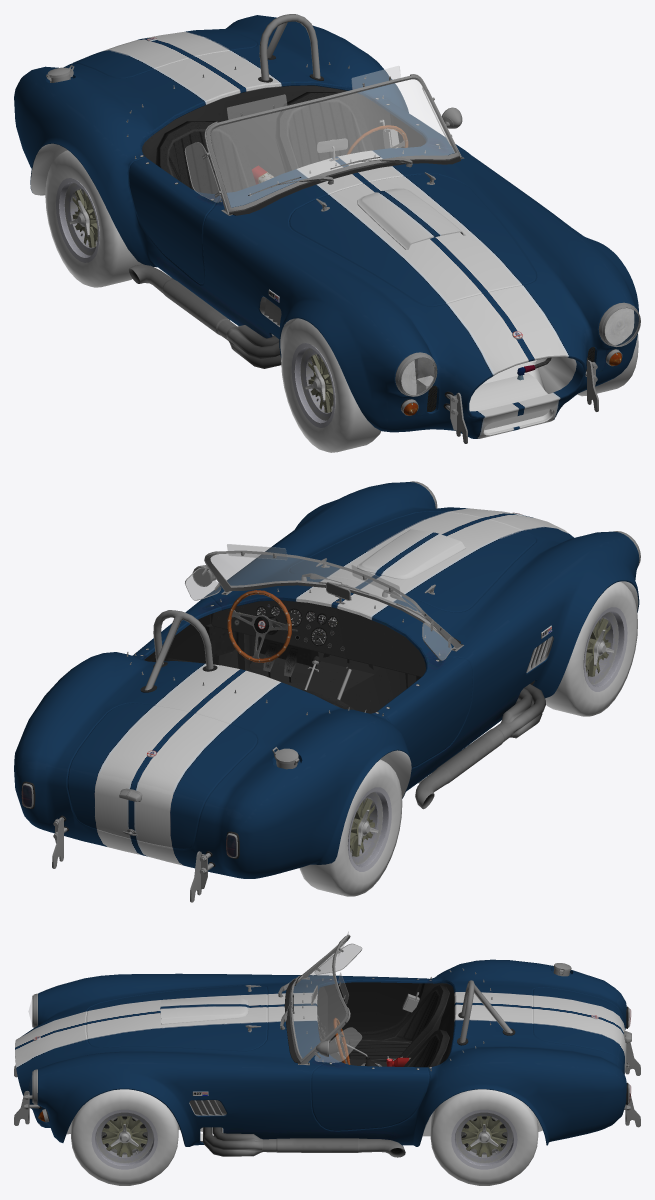
3 renders of one model, top to bottom at view 1: azimuth 30°, elevation 25°; view 2: azimuth 150°, elevation 25°; view 3: azimuth 270°, elevation 25°, orthographic. The views are drawn at different scales.
Visible parts, largest first — view 1: LOD_A_BODY_mm_ext_29, LOD_A_HOOD_mm_ext_25, LOD_A_INTERIOR_mm_cab_38, LOD_A_GLASS_FRONT_mm_windows_23, LOD_A_EXHAUST_mm_misc_27, LOD_A_CHASSIS_mm_chassis_26, LOD_A_DOOR_RIGHT_mm_ext_30, LOD_A_TYRE_mm_tyre.003_4, LOD_A_TYRE_mm_tyre.002_5, LOD_A_BOOT_mm_ext_17, LOD_A_WHEEL_mm_wheel.003_3, LOD_A_WHEEL_mm_wheel.002_6 (+8 smaller); view 2: LOD_A_BODY_mm_ext_29, LOD_A_BOOT_mm_ext_17, LOD_A_INTERIOR_mm_cab_38, LOD_A_HOOD_mm_ext_25, LOD_A_EXHAUST_mm_misc_27, LOD_A_DOOR_RIGHT_mm_ext_30, LOD_A_TYRE_mm_tyre.003_4, LOD_A_GLASS_FRONT_mm_windows_23, LOD_A_TYRE_mm_tyre.002_5, LOD_A_WHEEL_mm_wheel.003_3, LOD_A_WHEEL_mm_wheel.002_6, LOD_A_DOOR_LEFT_mm_cab_49 (+7 smaller); view 3: LOD_A_BODY_mm_ext_29, LOD_A_HOOD_mm_ext_25, LOD_A_EXHAUST_mm_misc_27, LOD_A_DOOR_LEFT_mm_ext_40, LOD_A_INTERIOR_mm_cab_38, LOD_A_TYRE_mm_tyre.001_14, LOD_A_TYRE_mm_tyre_15, LOD_A_BOOT_mm_ext_17, LOD_A_DOOR_RIGHT_mm_cab_48, LOD_A_GLASS_FRONT_mm_windows_23, LOD_A_WHEEL_mm_wheel_22, LOD_A_WHEEL_mm_wheel.001_13 (+5 smaller).
Boxes of the visible parts, bbox=[...] form: LOD_A_BODY_mm_ext_29: bbox=[14, 15, 638, 438]; LOD_A_HOOD_mm_ext_25: bbox=[289, 174, 536, 306]; LOD_A_INTERIOR_mm_cab_38: bbox=[142, 85, 408, 193]; LOD_A_GLASS_FRONT_mm_windows_23: bbox=[211, 79, 454, 207]; LOD_A_EXHAUST_mm_misc_27: bbox=[46, 14, 640, 415]; LOD_A_CHASSIS_mm_chassis_26: bbox=[30, 143, 634, 433]; LOD_A_DOOR_RIGHT_mm_ext_30: bbox=[129, 157, 219, 284]; LOD_A_TYRE_mm_tyre.003_4: bbox=[281, 318, 380, 452]; LOD_A_TYRE_mm_tyre.002_5: bbox=[45, 150, 144, 287]; LOD_A_BOOT_mm_ext_17: bbox=[72, 29, 257, 78]; LOD_A_WHEEL_mm_wheel.003_3: bbox=[291, 343, 335, 427]; LOD_A_WHEEL_mm_wheel.002_6: bbox=[56, 178, 99, 262]; LOD_A_BODY_mm_ext_29: bbox=[14, 482, 639, 878]; LOD_A_BOOT_mm_ext_17: bbox=[67, 703, 257, 849]; LOD_A_INTERIOR_mm_cab_38: bbox=[144, 590, 425, 713]; LOD_A_HOOD_mm_ext_25: bbox=[289, 511, 535, 612]; LOD_A_EXHAUST_mm_misc_27: bbox=[21, 481, 640, 874]; LOD_A_DOOR_RIGHT_mm_ext_30: bbox=[377, 657, 472, 767]; LOD_A_TYRE_mm_tyre.003_4: bbox=[545, 581, 637, 716]; LOD_A_GLASS_FRONT_mm_windows_23: bbox=[211, 553, 436, 629]; LOD_A_TYRE_mm_tyre.002_5: bbox=[299, 759, 402, 896]; LOD_A_WHEEL_mm_wheel.003_3: bbox=[583, 607, 627, 691]; LOD_A_WHEEL_mm_wheel.002_6: bbox=[347, 787, 391, 871]; LOD_A_DOOR_LEFT_mm_cab_49: bbox=[144, 614, 238, 663]; LOD_A_BODY_mm_ext_29: bbox=[15, 959, 626, 1146]; LOD_A_HOOD_mm_ext_25: bbox=[86, 985, 267, 1050]; LOD_A_EXHAUST_mm_misc_27: bbox=[24, 934, 630, 1157]; LOD_A_DOOR_LEFT_mm_ext_40: bbox=[311, 1058, 429, 1130]; LOD_A_INTERIOR_mm_cab_38: bbox=[317, 983, 454, 1067]; LOD_A_TYRE_mm_tyre.001_14: bbox=[430, 1089, 538, 1185]; LOD_A_TYRE_mm_tyre_15: bbox=[71, 1089, 178, 1185]; LOD_A_BOOT_mm_ext_17: bbox=[533, 987, 626, 1074]; LOD_A_DOOR_RIGHT_mm_cab_48: bbox=[324, 982, 422, 1036]; LOD_A_GLASS_FRONT_mm_windows_23: bbox=[293, 945, 345, 1057]; LOD_A_WHEEL_mm_wheel_22: bbox=[91, 1109, 157, 1169]; LOD_A_WHEEL_mm_wheel.001_13: bbox=[451, 1109, 517, 1169].
Size of the model in its own units: 1.8 by 1.26 by 4.04.
